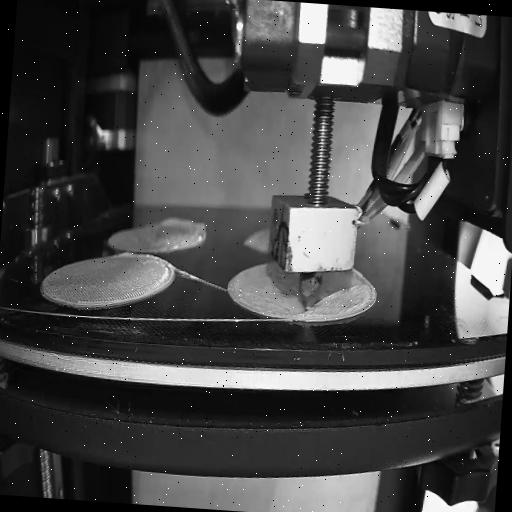over_extrusion: (156, 212, 208, 238), (312, 286, 350, 312), (116, 250, 138, 260), (351, 264, 364, 278)
